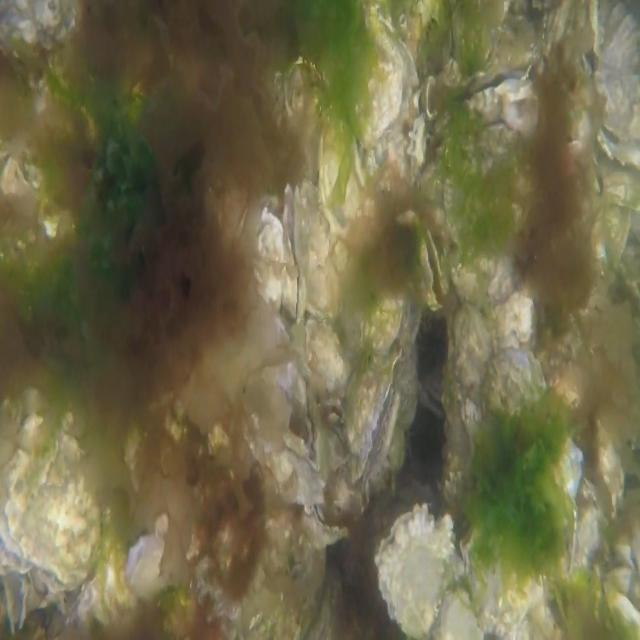Oyster-Closed: (459, 515, 547, 640), (347, 350, 403, 484), (243, 428, 326, 516), (306, 501, 350, 554)
Oyster-Indeterminate: (0, 412, 101, 590), (478, 345, 584, 502), (374, 503, 454, 638), (347, 0, 403, 153), (449, 302, 494, 466), (317, 119, 371, 255), (302, 180, 340, 318), (361, 284, 421, 366), (303, 312, 352, 412), (448, 237, 518, 301)
Oyster-Open: (453, 65, 540, 158), (591, 11, 640, 166), (248, 207, 286, 312), (280, 184, 304, 323), (419, 228, 447, 312), (577, 0, 603, 76)
